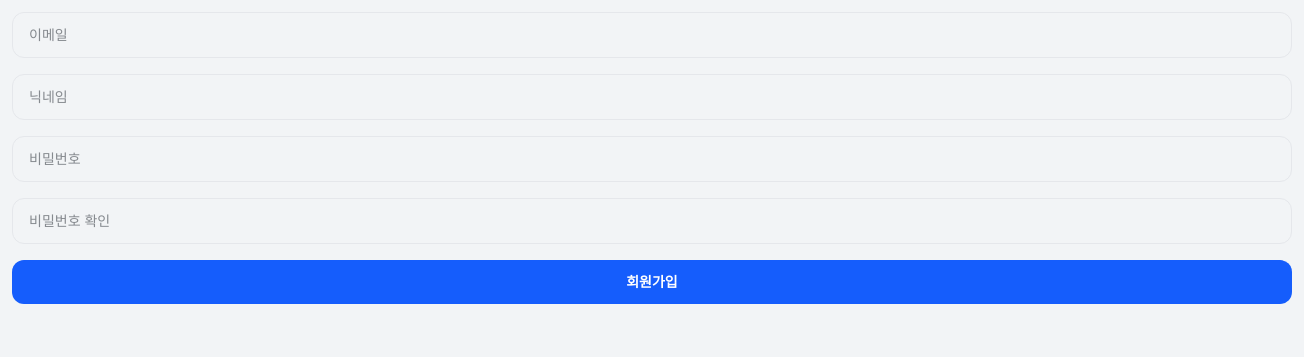
Test: SignupForm › 비밀번호 불일치 시 에러 메시지
# fireEvent.change로 controlled input 상태 직접 업데이트
Type "Password123!" into the password field with placeholder "비밀번호" at (652, 159), box [12,136,1292,182]
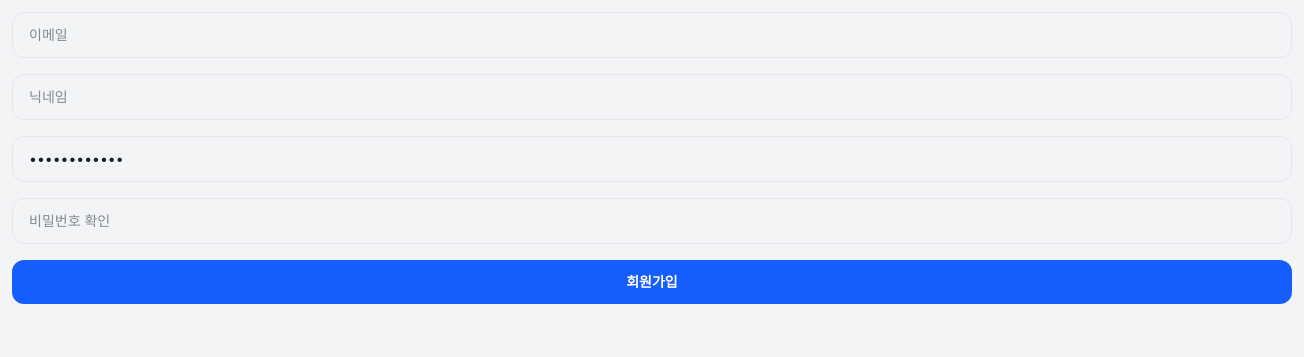
Type "Different123!" into the password field with placeholder "비밀번호 확인" at (652, 221), box [12,198,1292,244]
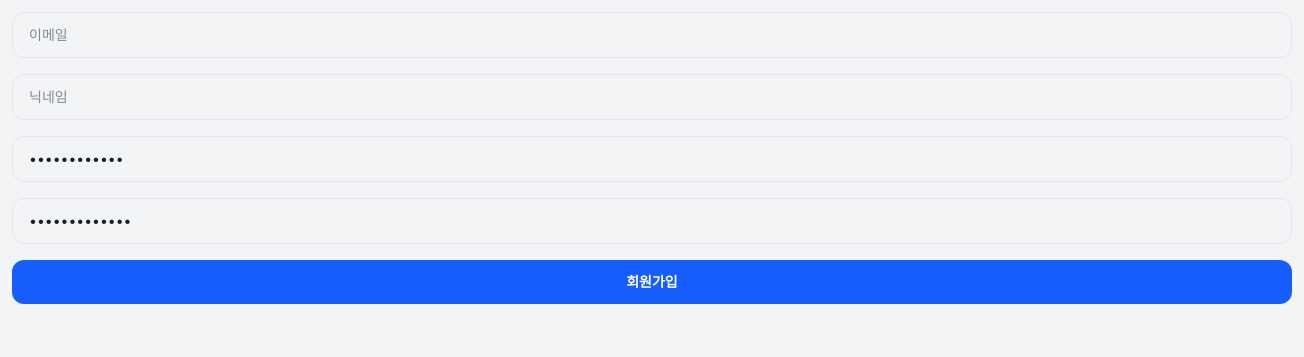
Submit the form "회원가입"
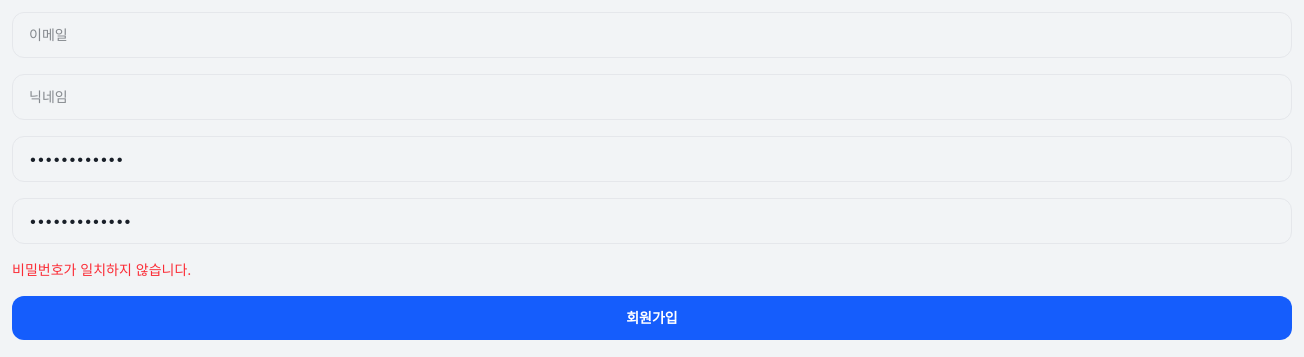
Result: the text "비밀번호가 일치하지 않습니다." is shown at [12,261,191,278]
